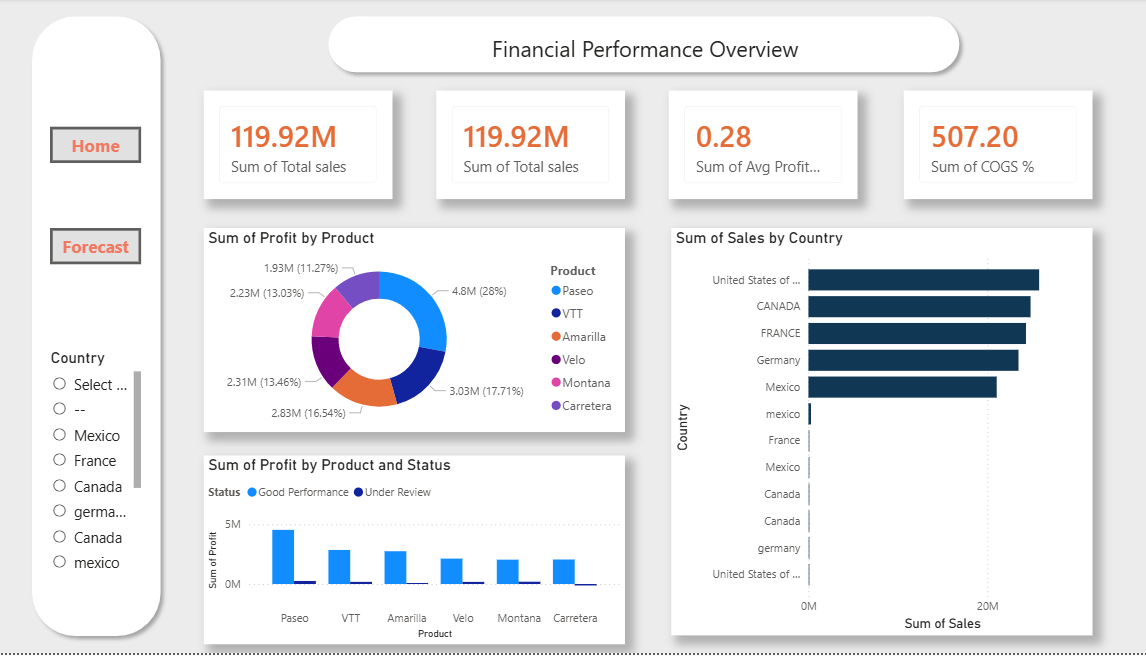

The dashboard page shown, as its layout file describes it:
{"tool":"powerbi","page":{"name":"Page 1","canvas":[1280,720],"ordinal":0},"visuals":[{"type":"shape","box":[31.6,11,159.2,698.5],"z":0},{"type":"cardVisual","fields":{"Data":["Sum(Data.Total sales)"]},"box":[229.2,101.5,207.2,119.4],"z":1000},{"type":"cardVisual","fields":{"Data":["Sum(Data.Total sales)"]},"box":[484.4,101.5,207.2,119.4],"z":2000},{"type":"cardVisual","fields":{"Data":["Sum(Data.Avg Profit Margin)"]},"box":[739.6,101.5,207.2,119.4],"z":3000},{"type":"cardVisual","fields":{"Data":["Sum(Data.COGS %)"]},"box":[997.6,101.5,207.2,119.4],"z":4000},{"type":"clusteredBarChart","fields":{"Category":["Data.Country"],"Y":["Sum(Data. Sales)"]},"box":[742.4,252.5,462.4,447.3],"z":5000},{"type":"donutChart","fields":{"Category":["Data.Product"],"Y":["Sum(Data.Profit)"]},"box":[229.2,252.5,462.4,223.7],"z":6000},{"type":"actionButton","box":[60.4,141.3,100.2,39.8],"z":7000},{"type":"actionButton","box":[60.4,252.5,100.2,39.8],"z":8000},{"type":"clusteredColumnChart","fields":{"Category":["Data.Product"],"Y":["Sum(Data.Profit)"],"Series":["Data.Status"]},"box":[229.2,502.2,462.4,207.2],"z":9000},{"type":"listSlicer","fields":{"Values":["Data.Country"]},"box":[56.3,384.2,109.8,259.3],"z":10000},{"type":"shape","box":[356.8,11,710.8,79.6],"z":11000},{"type":"textbox","box":[540.7,34.3,406.2,42.5],"z":12000}]}

Visuals, with their boxes in screenshot pixels (x1, y1, x2, y2), scaled from the page's 1280x720 canvas onto the 1146x656 screenshot:
shape: 28/10/171/646
cardVisual - Sum(Data.Total sales): 205/92/391/201
cardVisual - Sum(Data.Total sales): 434/92/619/201
cardVisual - Sum(Data.Avg Profit Margin): 662/92/848/201
cardVisual - Sum(Data.COGS %): 893/92/1079/201
clusteredBarChart - Data.Country x Sum(Data. Sales): 665/230/1079/638
donutChart - Data.Product x Sum(Data.Profit): 205/230/619/434
actionButton: 54/129/144/165
actionButton: 54/230/144/266
clusteredColumnChart - Data.Product x Sum(Data.Profit): 205/458/619/646
listSlicer - Data.Country: 50/350/149/586
shape: 319/10/956/83
textbox: 484/31/848/70
